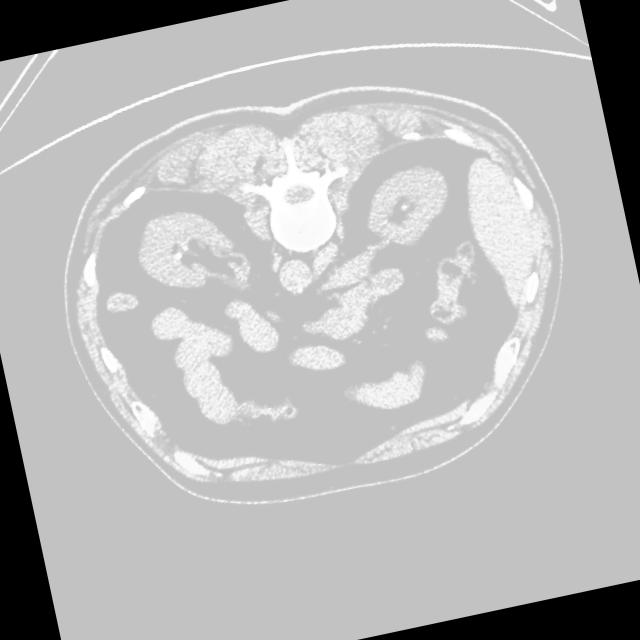STONE: (151, 167, 513, 407)
